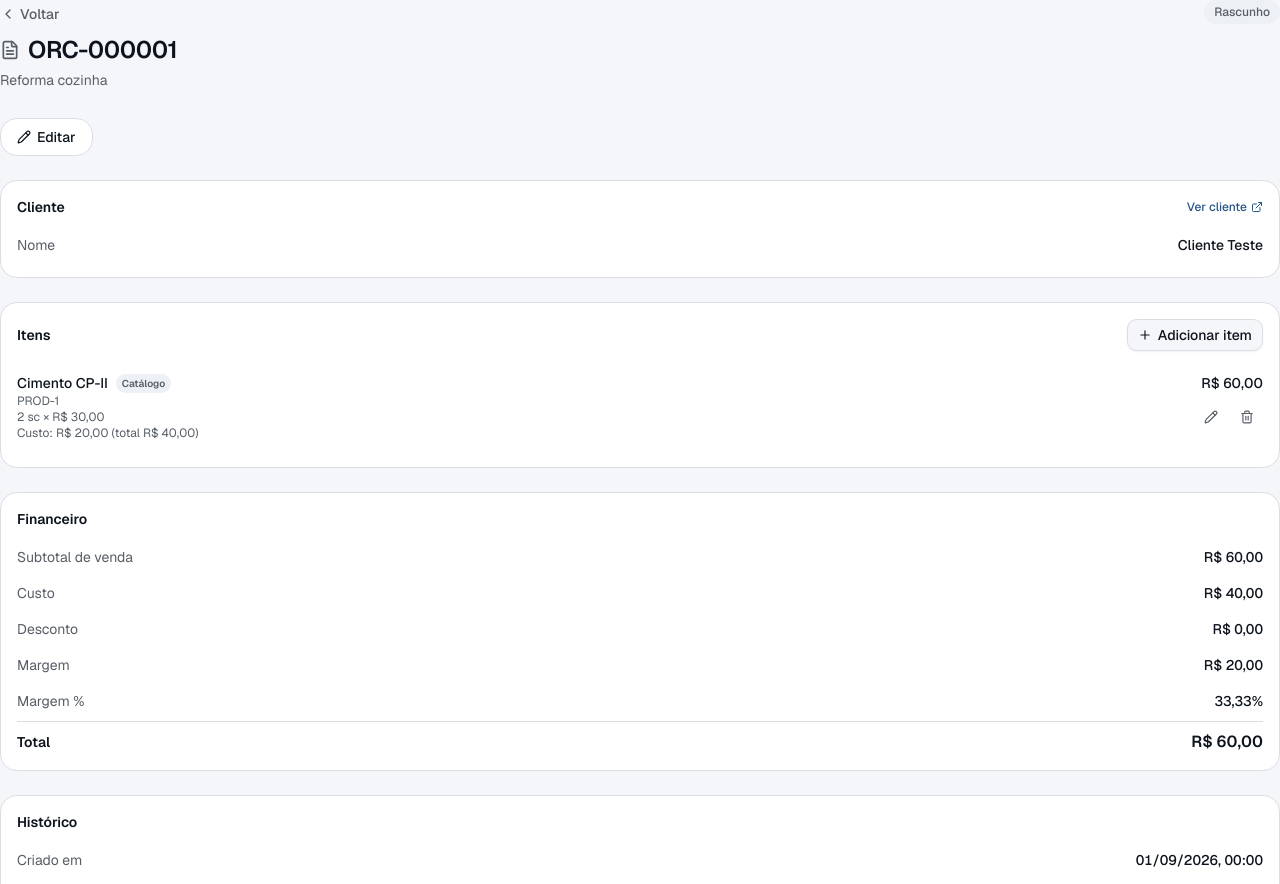
it: BudgetDetail › Item delete › a 422 (discount exceeds new subtotal) leaves the item in place and shows the required message
Click the button named "remover cimento cp-ii".
click(1247, 417)  # box 1231,401 -> 1263,433
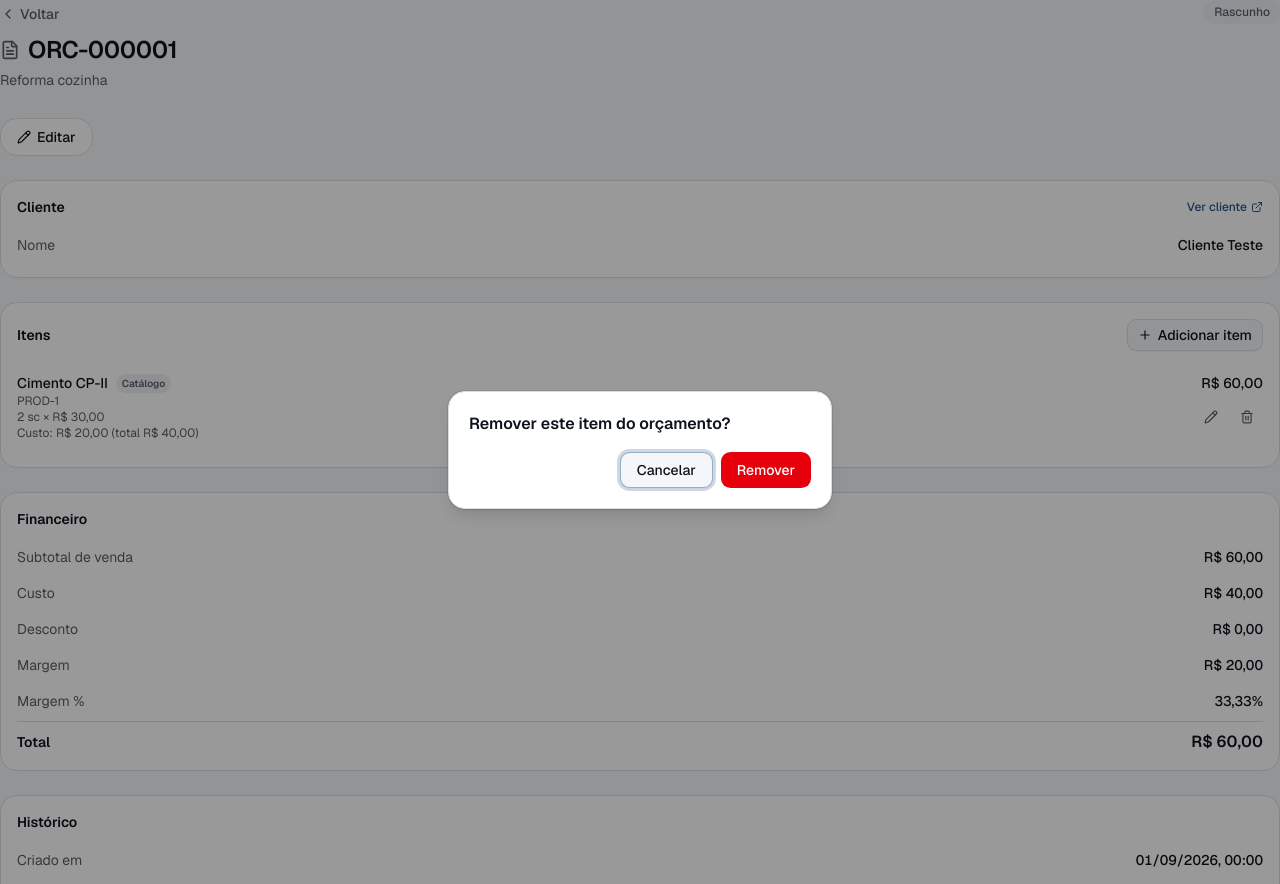
Click the button "Remover".
click(766, 470)  # box 721,452 -> 811,488
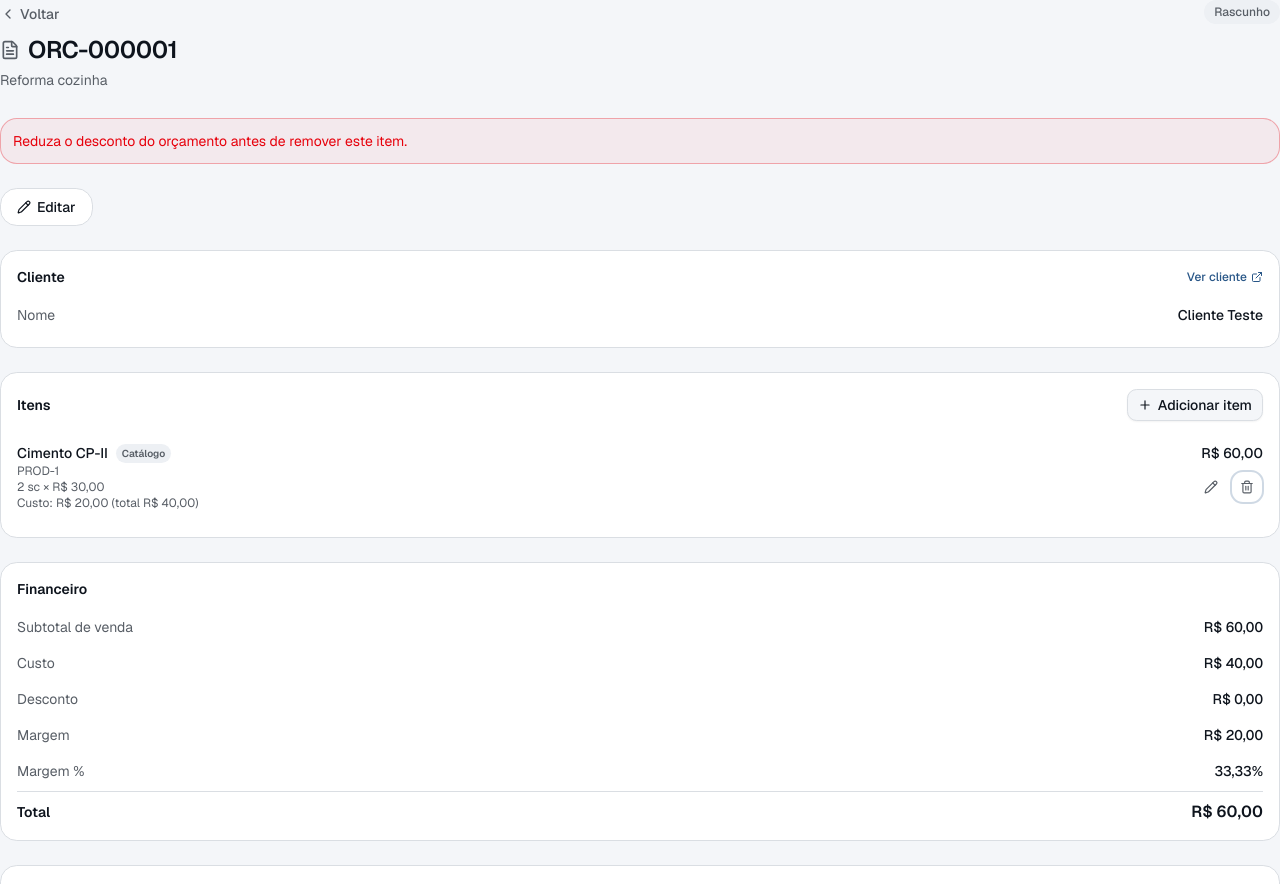
Check: the text "Cimento CP-II" is shown, box 17,443 -> 108,463
Check: the text "Reduza o desconto do orçamento antes de remover este item." is shown, box 0,118 -> 1279,164
